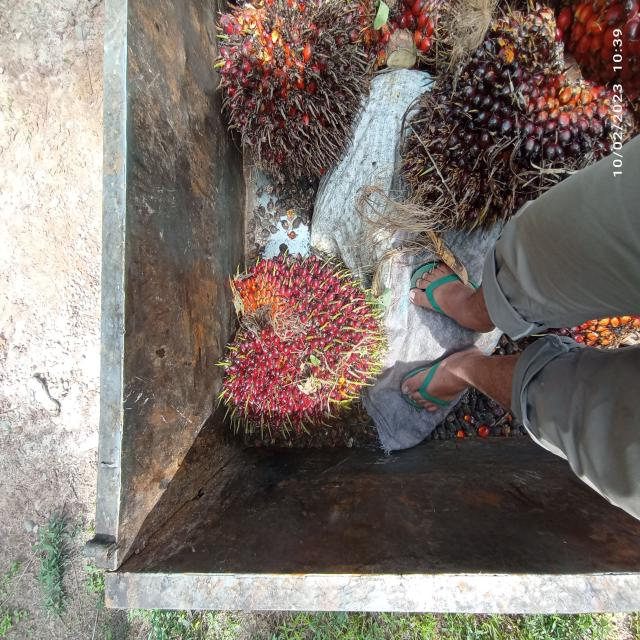fraksi 00: (392, 2, 640, 262)
fraksi 3: (207, 240, 384, 444)
fraksi 4: (214, 1, 383, 203)
